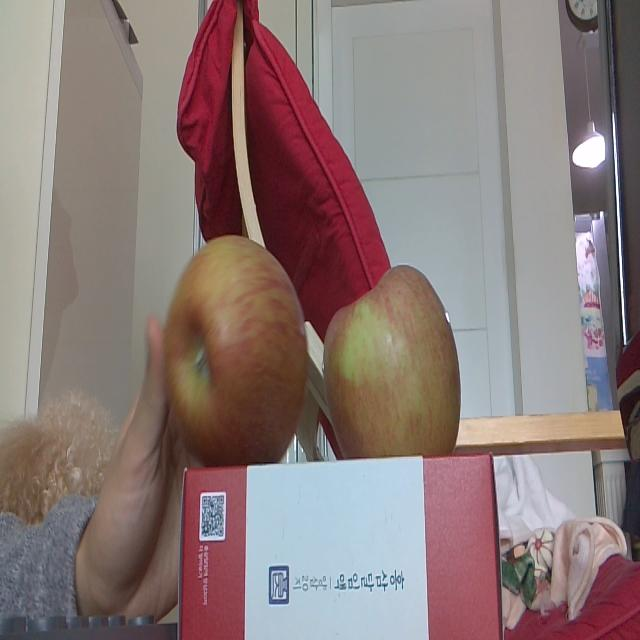apple: (165, 234, 306, 463), (327, 270, 461, 448)
